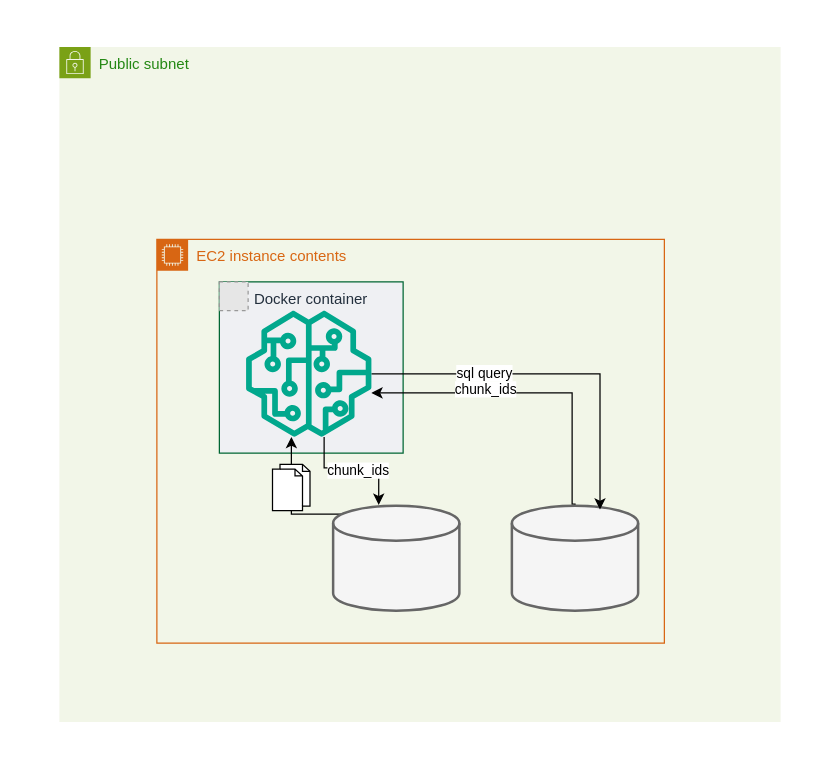
This 839x771 diagram has some shape labels left out. Grey dashed boxes stand in for pictures. Here are the shapes that lost their labels. From the top down, the centre of each, then its label:
point (395, 557): VectorDB
point (574, 557): SQL
